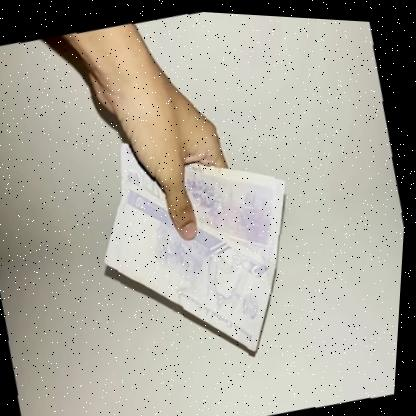ten-back-vef: (124, 110, 363, 333)
two_hundred-back-vef: (84, 106, 280, 308)
